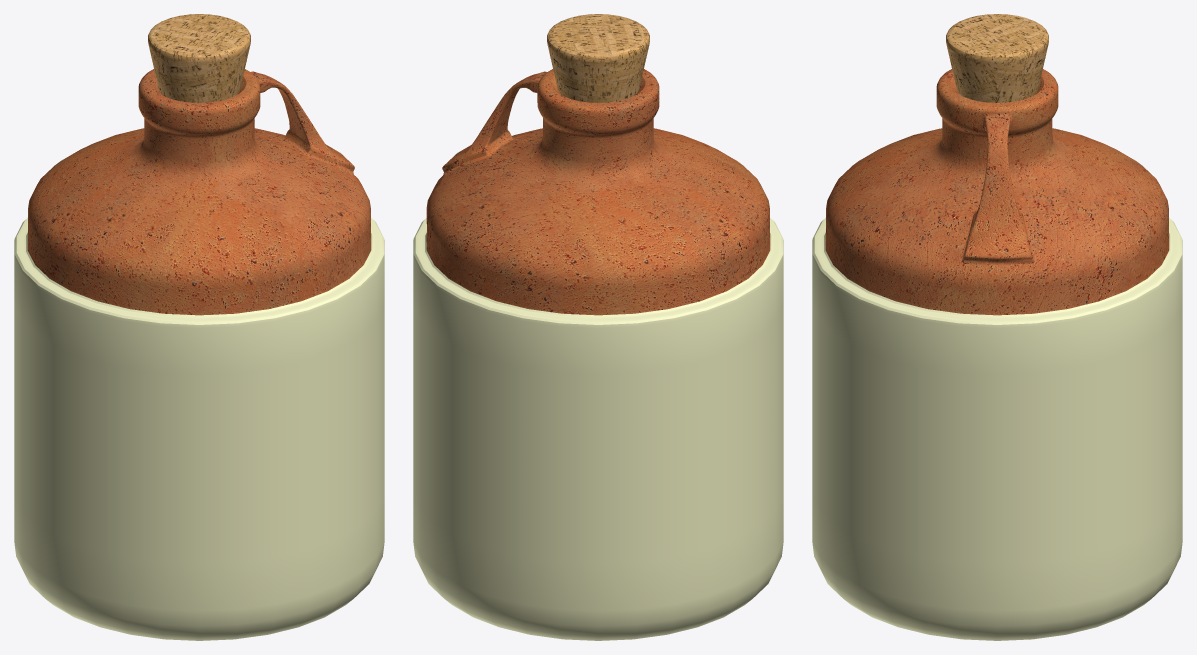
The model's file is WhiskeyJug.FBX.
3 views of the same model, side by side, from view 1: azimuth 30°, elevation 25°; view 2: azimuth 150°, elevation 25°; view 3: azimuth 270°, elevation 25° (orthographic).
Visible parts, largest first — view 1: Box001; view 2: Box001; view 3: Box001.
Part boxes in pixels (x1,y1,x2,y2): Box001: (14, 14, 384, 640); Box001: (413, 14, 783, 640); Box001: (812, 14, 1182, 640).
Size of the model in its own units: 14.3 by 22.98 by 14.23.
